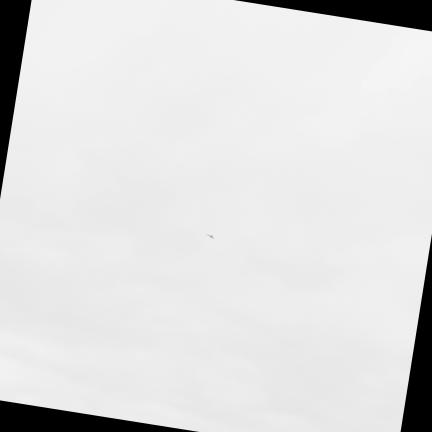Shahed: (206, 234, 214, 239)
